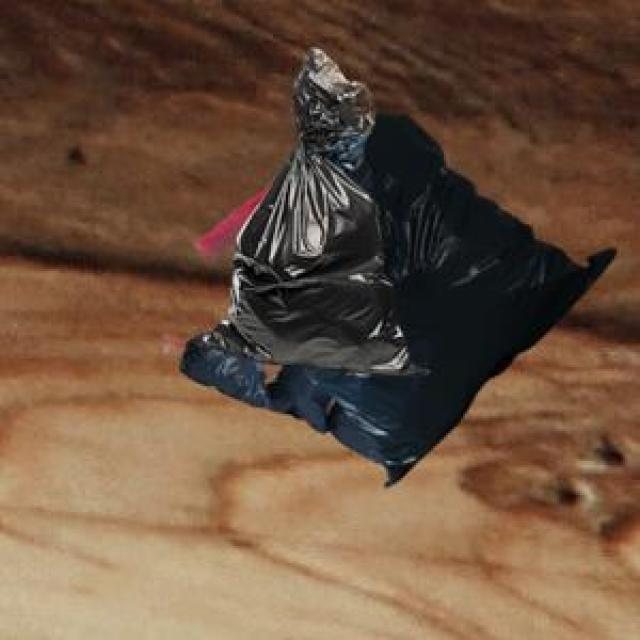waste: (181, 48, 615, 484)
